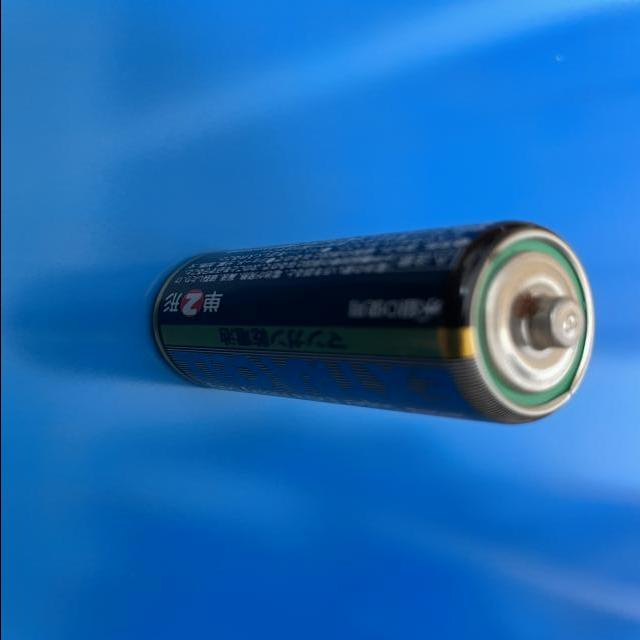AA: (148, 212, 596, 427)
